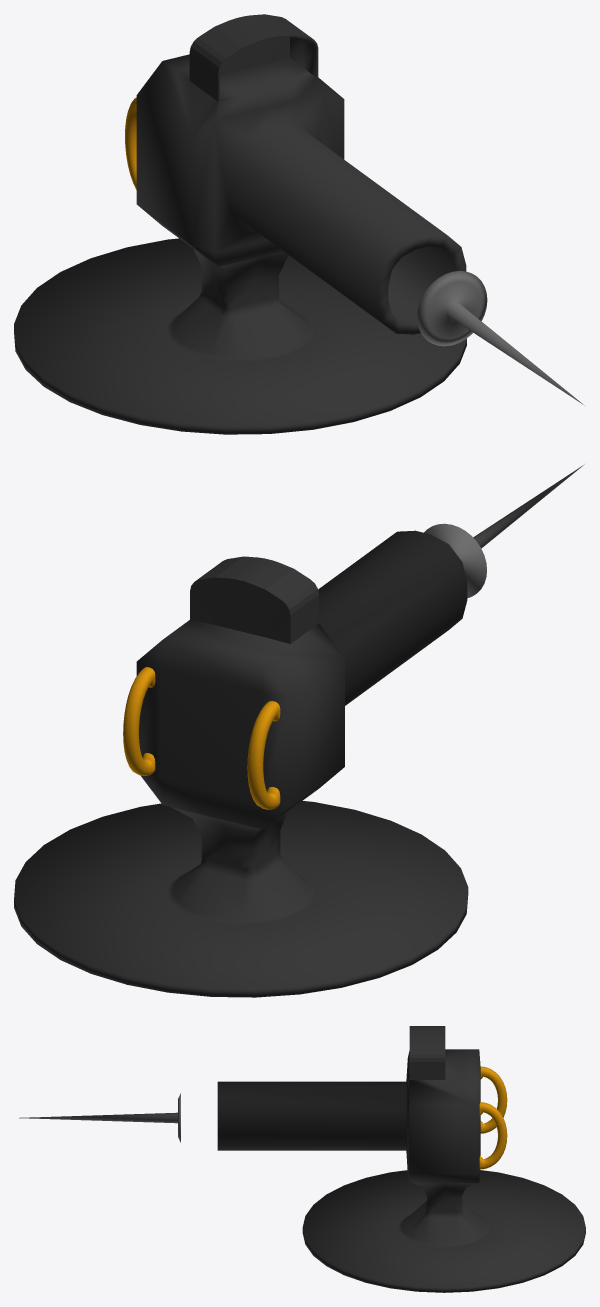
Rendered from nailLauncher.fbx.
3 views of the same model, one above another, from view 1: azimuth 30°, elevation 25°; view 2: azimuth 150°, elevation 25°; view 3: azimuth 270°, elevation 25° (orthographic). The views are drawn at different scales.
Parts seen in each view (by area): view 1: nailgun, nail, handles; view 2: nailgun, handles, nail; view 3: nailgun, handles, nail.
Boxes of the visible parts, x1,y1,x2,y2 form: nailgun: (14, 14, 466, 434); nail: (417, 271, 584, 405); handles: (125, 97, 136, 189); nailgun: (14, 530, 468, 997); handles: (123, 667, 280, 809); nail: (424, 464, 584, 598); nailgun: (217, 1026, 585, 1292); handles: (479, 1066, 507, 1169); nail: (19, 1093, 180, 1142).
Size of the model in its own units: 1118 by 872 by 2257.
